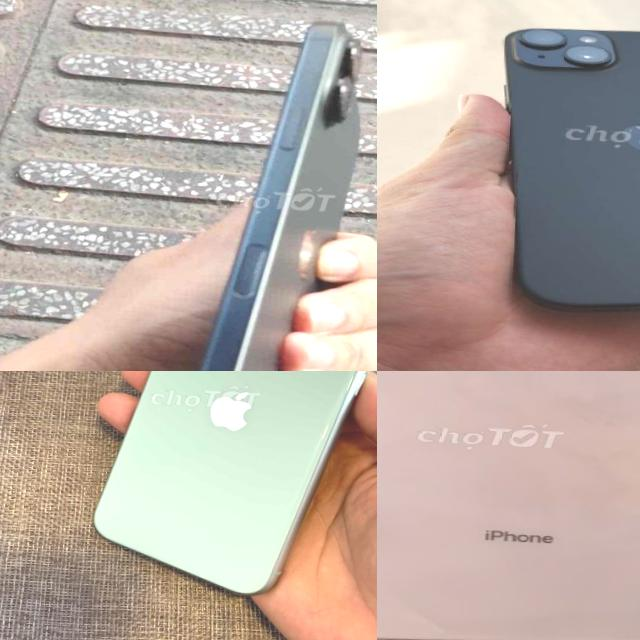gen_11: (80, 371, 377, 605)
gen_15: (443, 8, 640, 332)
gen_16: (173, 5, 377, 371)
gen_x_xs: (377, 371, 640, 640)
